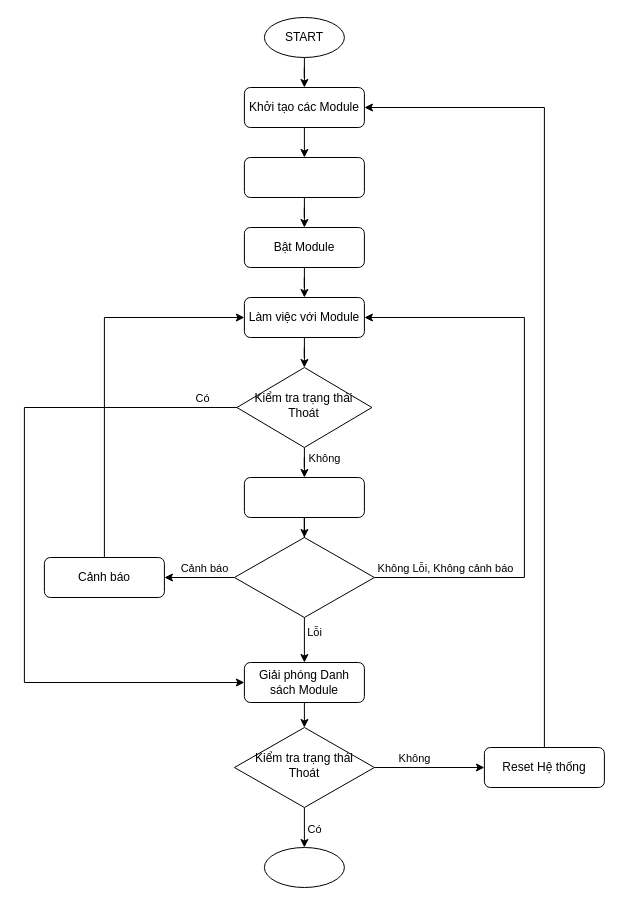
This 622x905 diagram has some shape labels left out. Each missing label, with the centre of its shape:
"Cập nhật Trạng Thái Module" belongs at point (303, 497).
"END" belongs at point (303, 867).
"Kiểm tra trạng thái Module" belongs at point (303, 577).
"Thêm Module vào List" belongs at point (303, 177).
